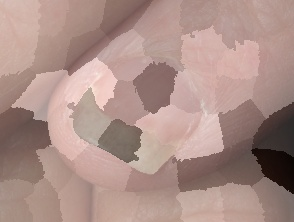Nail_psoriasis: (46, 11, 257, 203)
